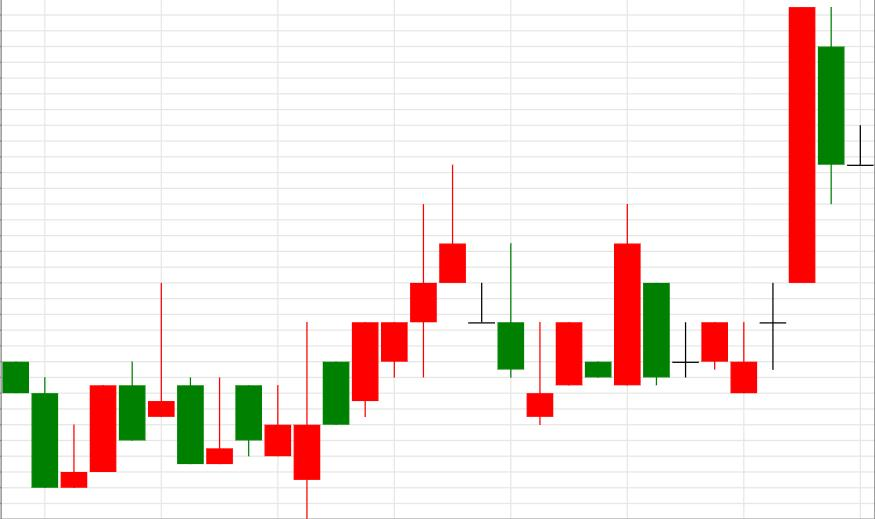shooting_star_fall: (293, 165, 465, 518)
